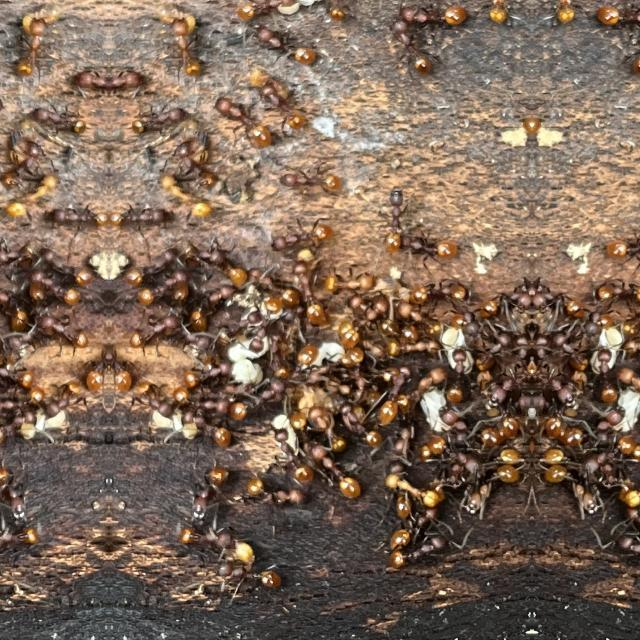Apheanogaster: (211, 87, 273, 155), (251, 66, 307, 136), (212, 550, 284, 602), (311, 440, 364, 510), (265, 336, 321, 402), (254, 17, 320, 71), (386, 10, 434, 84), (379, 492, 418, 580), (415, 398, 463, 468), (276, 154, 346, 202), (266, 210, 334, 258), (157, 172, 215, 228), (1, 172, 59, 228), (288, 253, 328, 333), (556, 458, 604, 524), (185, 272, 237, 332), (459, 458, 506, 524), (13, 5, 52, 84), (230, 374, 286, 428), (164, 5, 202, 84), (172, 132, 220, 194), (126, 308, 184, 359), (32, 308, 90, 359), (374, 354, 412, 428), (174, 348, 234, 394), (600, 398, 640, 467), (397, 0, 473, 36), (121, 242, 189, 282), (27, 242, 95, 282), (242, 308, 290, 364), (271, 425, 313, 489), (409, 270, 469, 314), (0, 132, 42, 194), (480, 272, 530, 324), (533, 272, 583, 324), (333, 313, 371, 381), (186, 461, 228, 521), (404, 222, 461, 266), (402, 357, 446, 413), (176, 520, 237, 560), (338, 400, 382, 454), (134, 268, 188, 312), (178, 406, 232, 450), (28, 268, 82, 312), (379, 180, 409, 258), (307, 399, 348, 455), (206, 238, 250, 290), (444, 339, 476, 409), (418, 474, 450, 542), (234, 290, 288, 330), (374, 318, 420, 364), (588, 339, 618, 409), (476, 410, 522, 454), (541, 410, 587, 454), (0, 346, 42, 394), (123, 102, 181, 136), (35, 102, 93, 136), (594, 270, 640, 312), (343, 284, 391, 324), (612, 474, 640, 542), (493, 444, 527, 498), (536, 444, 570, 498), (590, 0, 640, 36), (0, 272, 30, 332), (110, 204, 162, 238), (54, 204, 106, 238), (602, 220, 640, 266), (0, 404, 38, 450), (108, 56, 142, 106), (74, 56, 108, 106), (0, 461, 28, 521), (386, 474, 438, 506), (386, 414, 419, 464), (248, 484, 310, 510), (0, 520, 40, 560), (477, 374, 513, 418), (550, 374, 586, 418), (108, 333, 132, 395), (84, 333, 108, 395), (532, 0, 578, 32), (486, 0, 530, 32), (616, 357, 640, 413), (481, 330, 509, 370), (554, 330, 582, 370), (628, 8, 640, 84), (519, 110, 531, 170), (532, 110, 544, 170), (0, 238, 10, 290), (624, 474, 640, 504)
